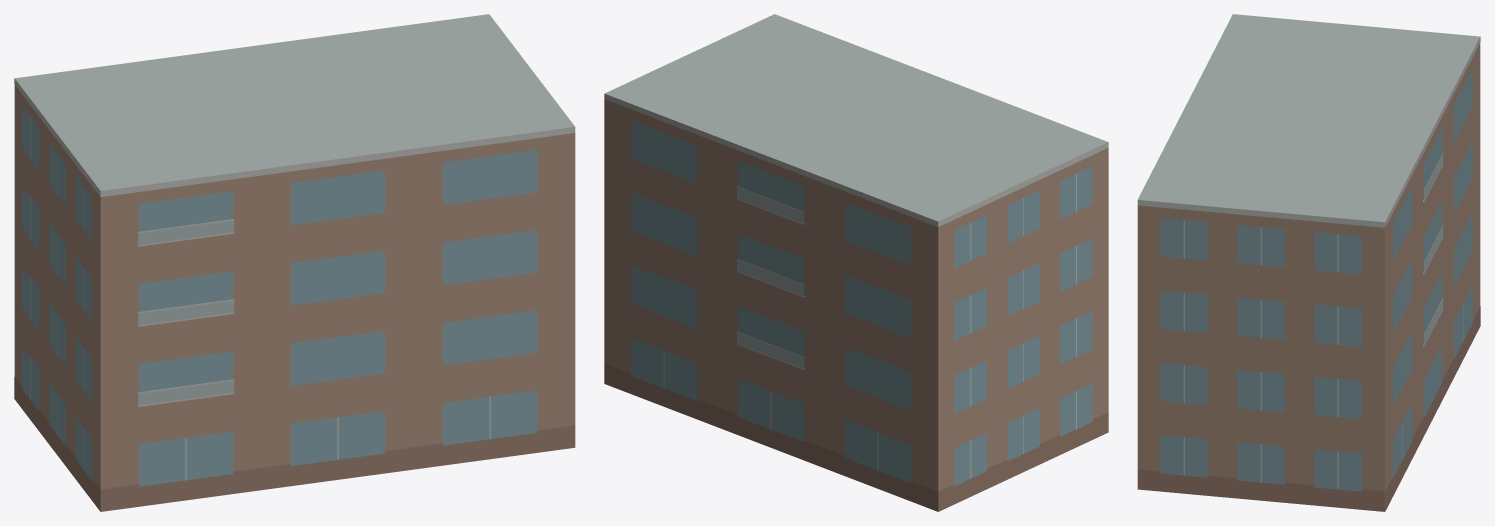
File: survey-upis-32639840.glb
The picture shows the model from 3 angles, left to right: view 1: azimuth 30°, elevation 25°; view 2: azimuth 150°, elevation 25°; view 3: azimuth 270°, elevation 25°; orthographic projection. The views are drawn at different scales.
Visible parts, largest first — view 1: survey-upis-32639840.tmp; view 2: survey-upis-32639840.tmp; view 3: survey-upis-32639840.tmp.
Part boxes in pixels (bbox=[...]): survey-upis-32639840.tmp: bbox=[14, 14, 575, 511]; survey-upis-32639840.tmp: bbox=[604, 14, 1108, 511]; survey-upis-32639840.tmp: bbox=[1137, 14, 1480, 511].
Bounding box in the file's own units: 19.76 × 12.8 × 13.75.
